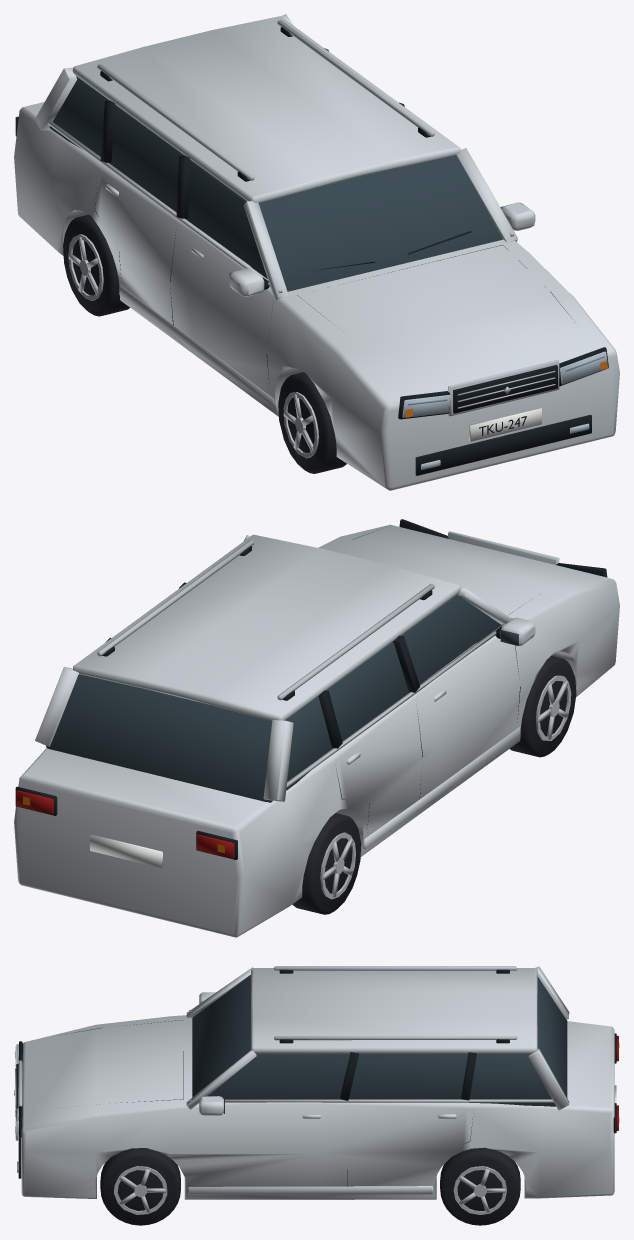
The model's file is estate_lod1.glb.
3 renders of one model, top to bottom at view 1: azimuth 30°, elevation 25°; view 2: azimuth 150°, elevation 25°; view 3: azimuth 270°, elevation 25°, orthographic. The views are drawn at different scales.
Visible parts, largest first — view 1: aava_estate_lod1; view 2: aava_estate_lod1; view 3: aava_estate_lod1.
Part boxes in pixels (left/top/right/bottom): aava_estate_lod1: left=14, top=14, right=619, bottom=490; aava_estate_lod1: left=14, top=519, right=619, bottom=937; aava_estate_lod1: left=14, top=966, right=619, bottom=1225.
Bounding box in the file's own units: 2.11 × 1.54 × 4.78.
